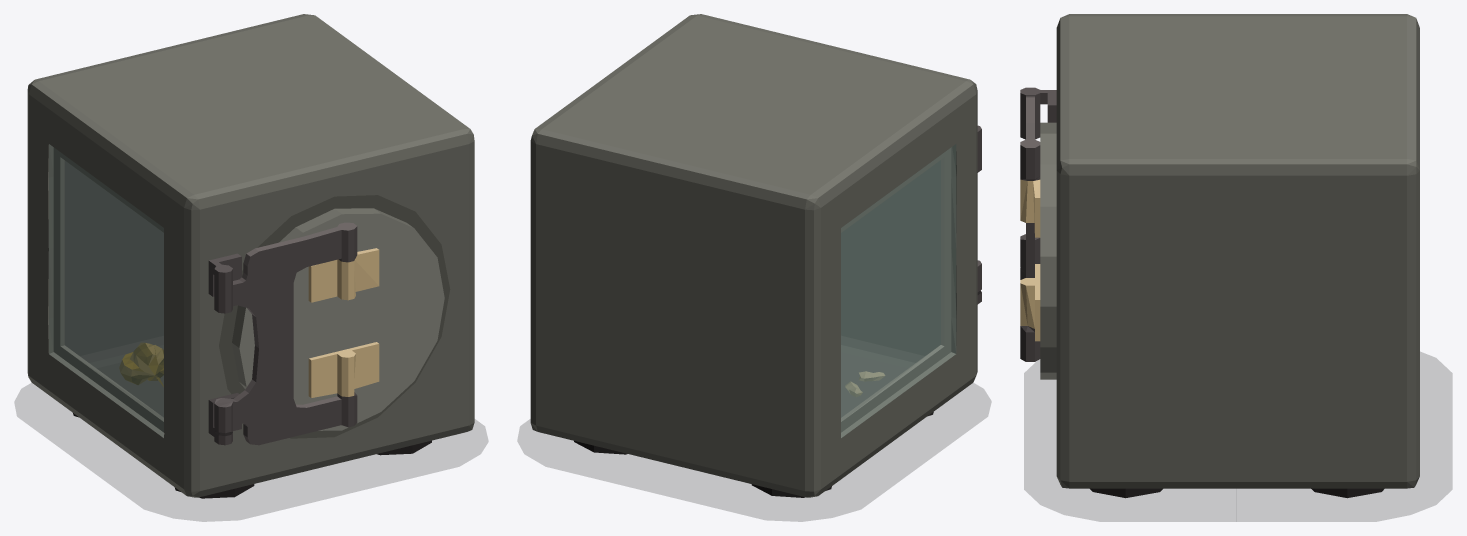
File: seed-vault.gltf
3 views of the same model, side by side, from view 1: azimuth 30°, elevation 25°; view 2: azimuth 150°, elevation 25°; view 3: azimuth 270°, elevation 25° (orthographic). The views are drawn at different scales.
Size of the model in its own units: 236 by 209 by 238.
Materials: 2 (2 with a texture image).
